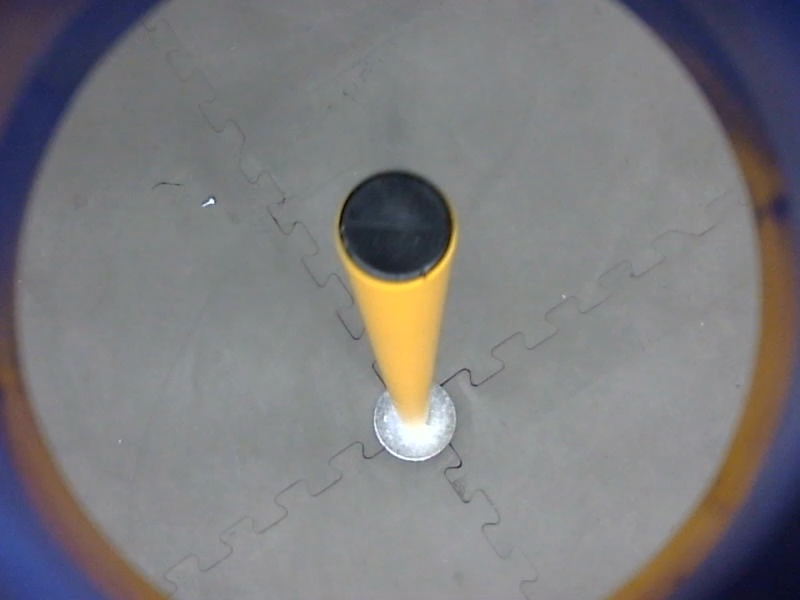tip: (331, 165, 464, 290)
